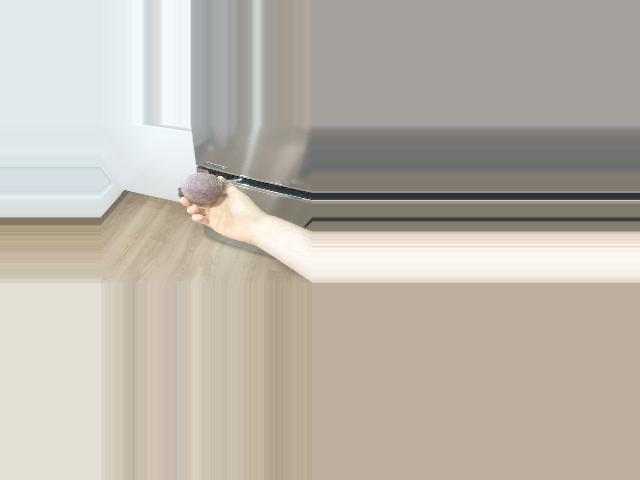beet: (177, 173, 240, 203)
